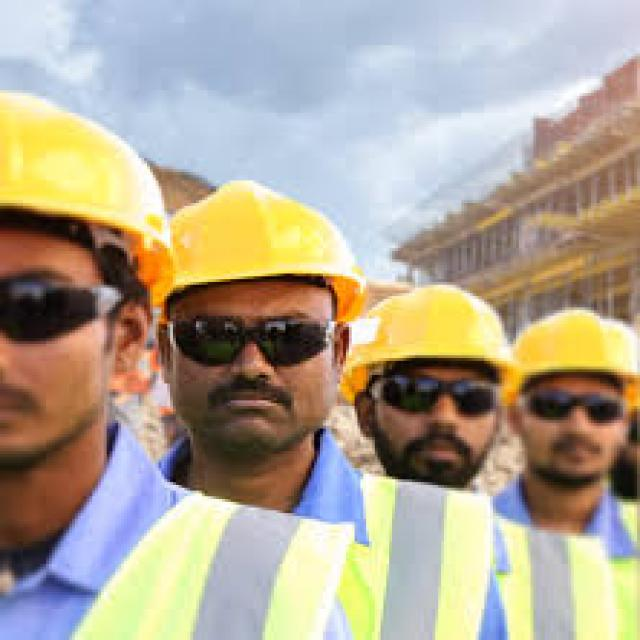Reflective-Jacket: (11, 476, 640, 639)
Safety-Helmet: (0, 82, 173, 270), (161, 174, 369, 318), (334, 276, 519, 389), (505, 302, 637, 400)
